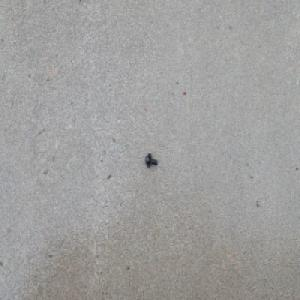BoltWasher: (144, 152, 157, 168)
